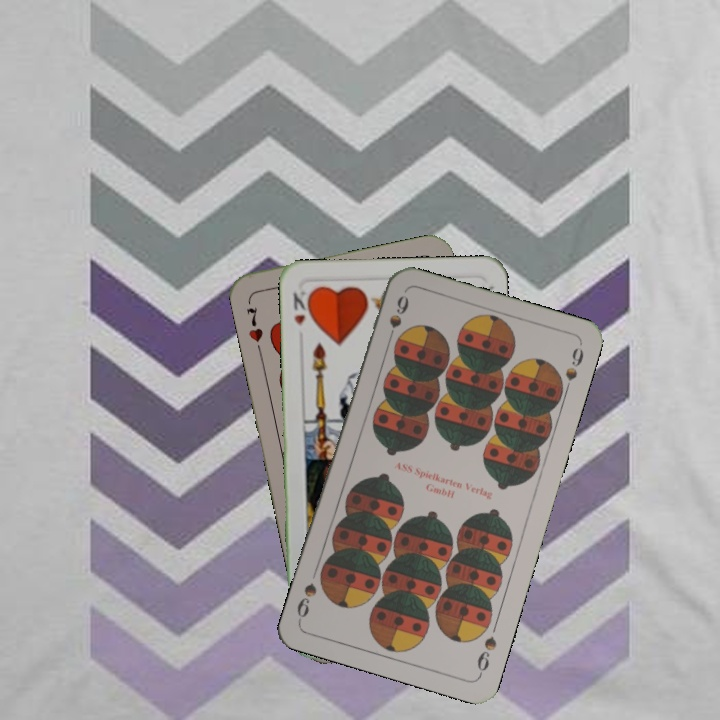H7: (242, 302, 266, 356)
HK: (289, 287, 314, 328)
S9: (383, 291, 412, 348), (473, 632, 500, 679)
